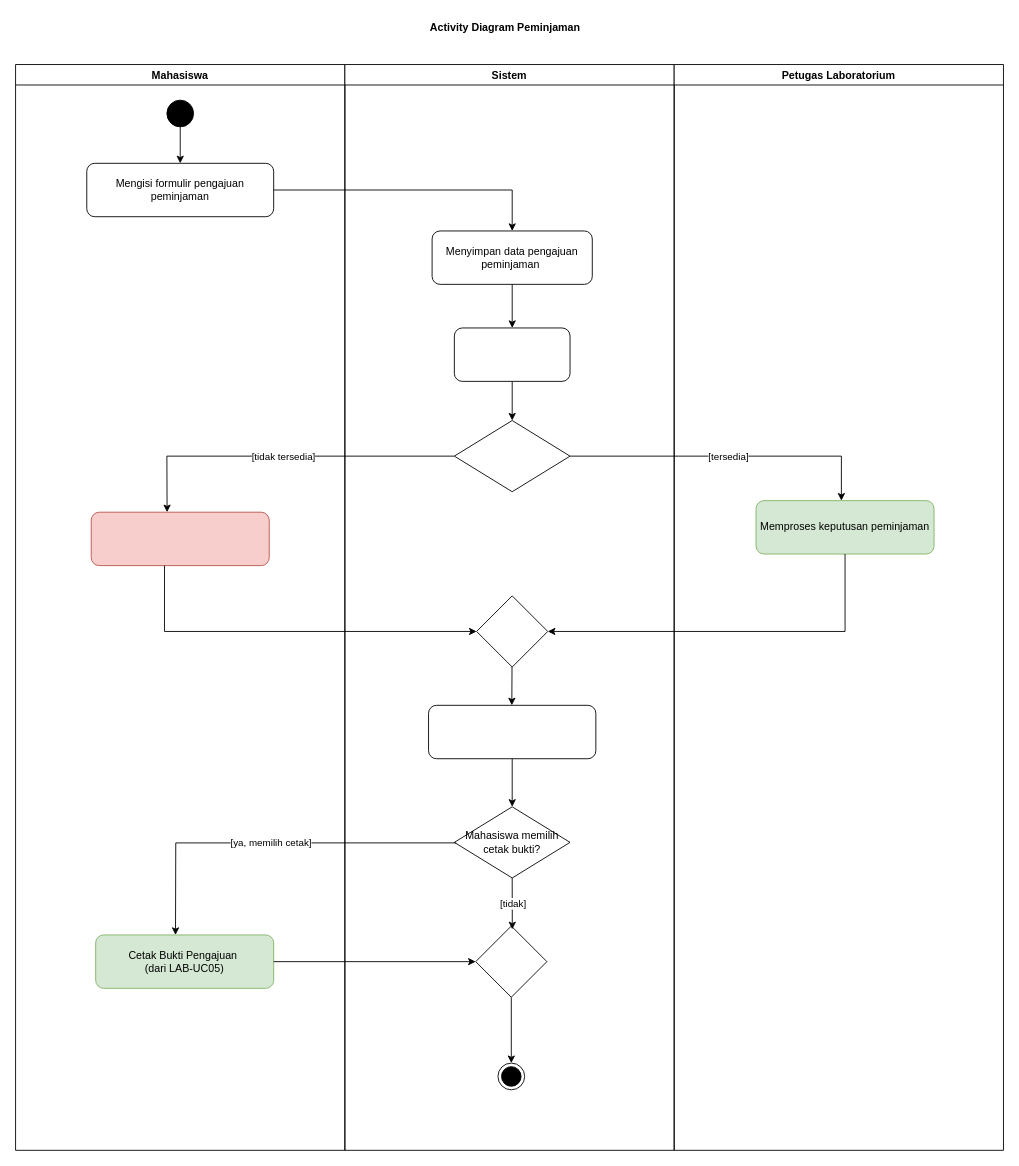
Image size: 1019x1166. Some labels were removed from this diagram. The shapes that lost their labels are listed below. From the top down, each one's centre as x and y in pixels, then its label:
the point at 511,354: Periksa ketersediaan (dari LAB-UC04)
the point at 511,456: Peralatan tersedia?
the point at 179,538: Menerima pemberitahuan pengajuan tidak terpenuhi
the point at 512,731: Mencatat hasil akhir pengajuan
